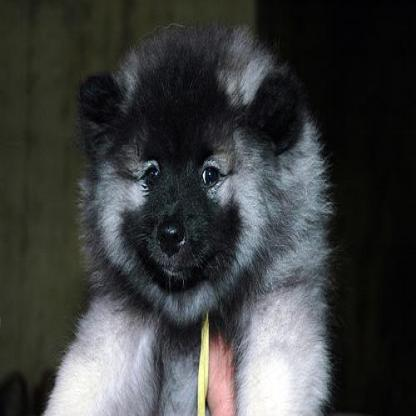keeshond: (39, 11, 340, 412)
